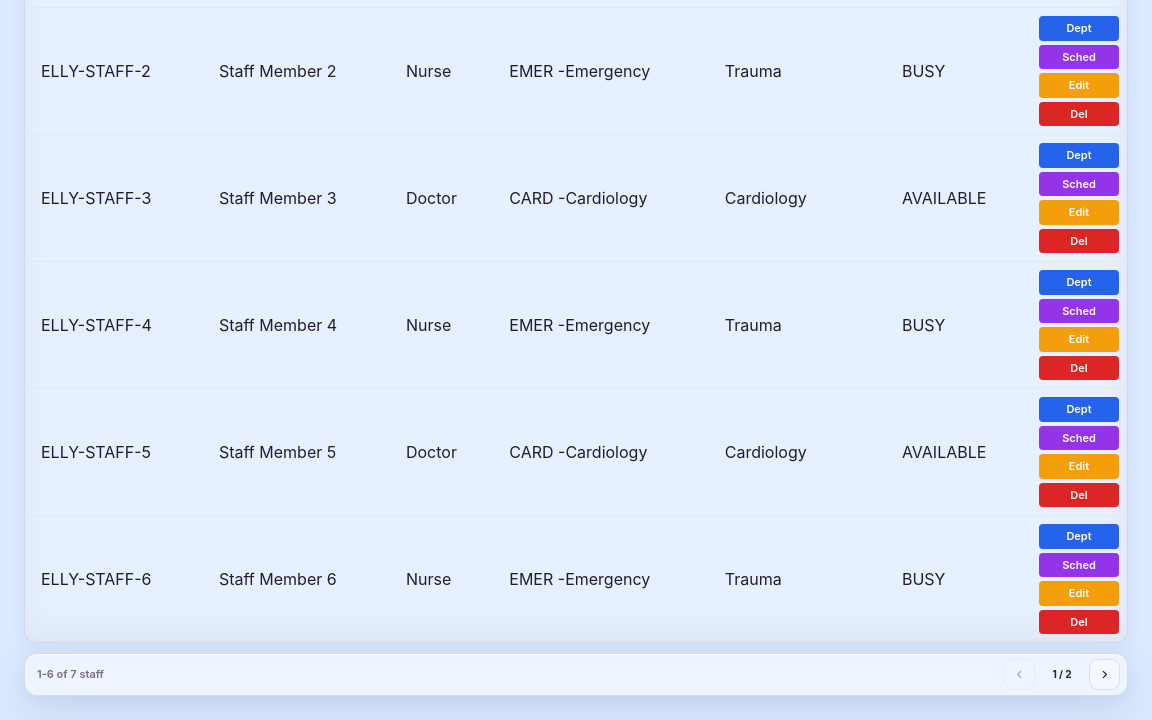
Scenario: StaffManagement › paginates staff at the page boundary
This screenshot has width=1152, height=720.
(page scrolled)
expect the text "Staff Member 7" is not shown: met
Click the button named "Next staff page" at x=1104, y=674, box [1089, 659, 1120, 690]
(page scrolled)
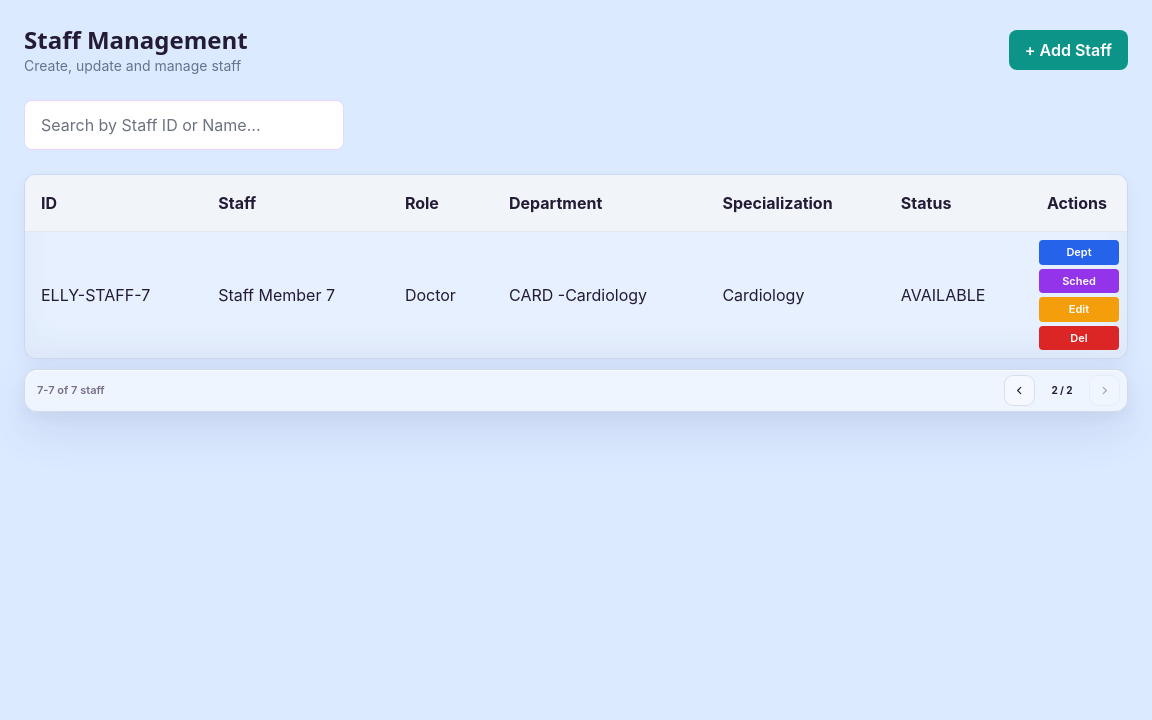
expect the text "Staff Member 7" is shown: met, box [202, 232, 389, 358]
